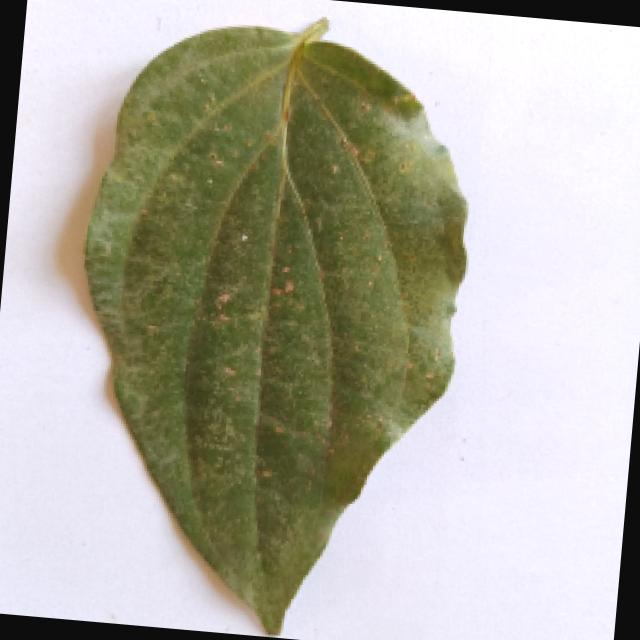pollu-disease: (24, 10, 502, 640)
